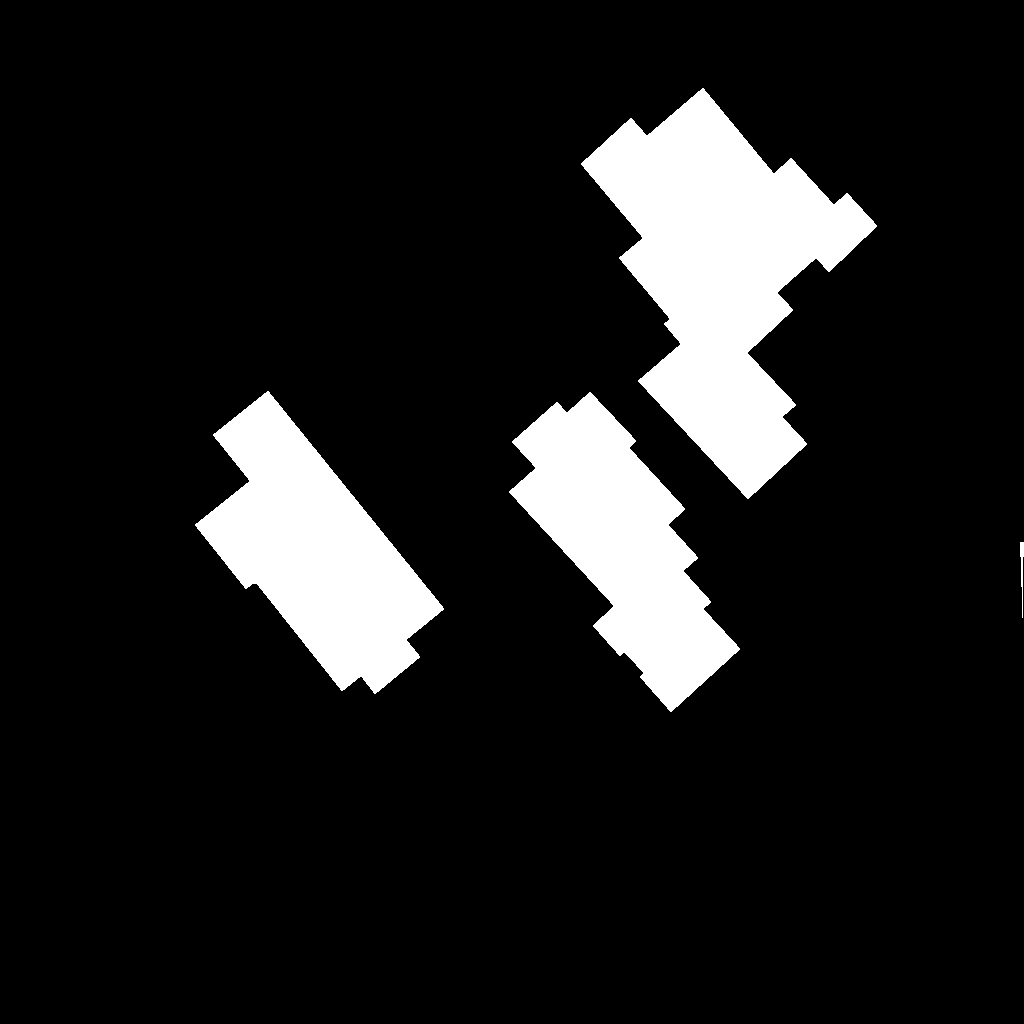building: (581, 88, 878, 500), (195, 391, 445, 695), (509, 392, 741, 713), (1020, 542, 1024, 634)
